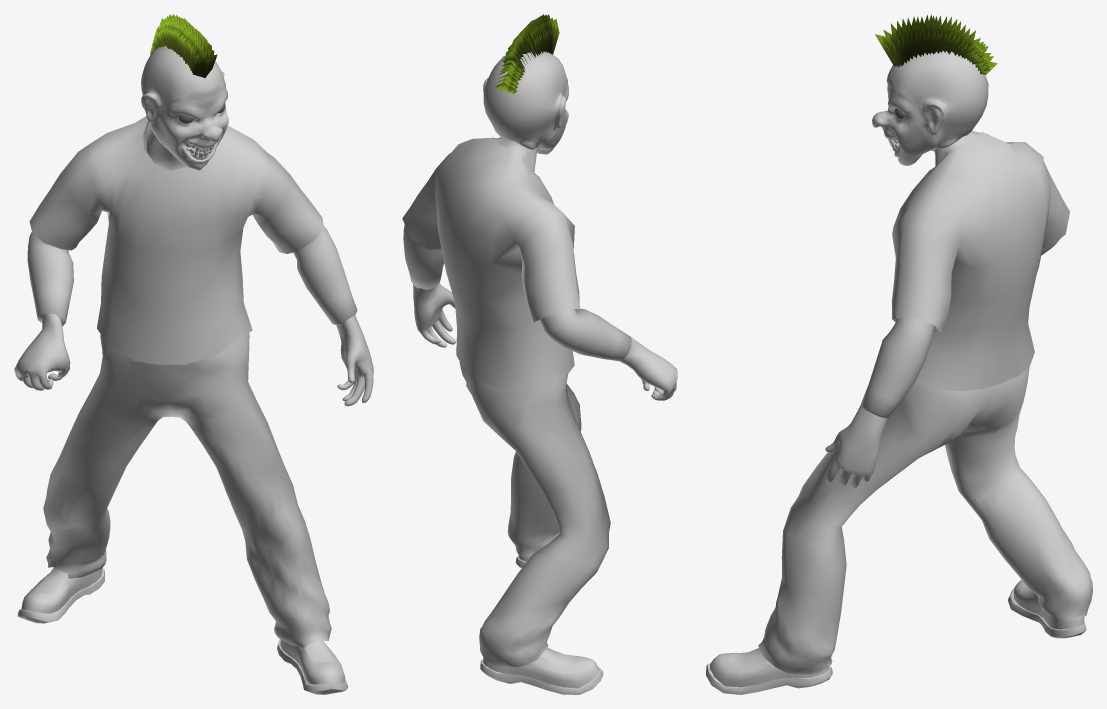
Rendered from Attack01 (55).obj.
3 views of the same model, side by side, from view 1: azimuth 30°, elevation 25°; view 2: azimuth 150°, elevation 25°; view 3: azimuth 270°, elevation 25° (orthographic). The views are drawn at different scales.
Visible parts, largest first — view 1: shirt, pants, head, forearm_band_002, forearm_band_01, boots, hand_right, boots001, Hair, hand_left, neck; view 2: shirt, pants, head, boots, forearm_band_01, Hair, hand_left, hand_right, forearm_band_002, neck; view 3: pants, shirt, head, forearm_band_002, Hair, boots001, hand_left, boots.
Part boxes in pixels (bbox=[...]): shirt: bbox=[29, 116, 324, 364]; pants: bbox=[43, 333, 331, 647]; head: bbox=[141, 46, 228, 170]; forearm_band_002: bbox=[293, 226, 357, 325]; forearm_band_01: bbox=[27, 232, 73, 326]; boots: bbox=[17, 567, 104, 623]; hand_right: bbox=[14, 313, 70, 390]; boots001: bbox=[277, 638, 347, 694]; Hair: bbox=[150, 14, 217, 77]; hand_left: bbox=[336, 315, 373, 406]; neck: bbox=[146, 122, 186, 170]; shirt: bbox=[402, 137, 579, 388]; pants: bbox=[459, 362, 610, 667]; head: bbox=[483, 51, 568, 154]; boots: bbox=[480, 647, 603, 694]; forearm_band_01: bbox=[540, 308, 631, 361]; Hair: bbox=[494, 14, 559, 93]; hand_left: bbox=[413, 283, 455, 347]; hand_right: bbox=[619, 337, 677, 400]; forearm_band_002: bbox=[403, 224, 444, 289]; neck: bbox=[493, 137, 538, 173]; pants: bbox=[758, 367, 1092, 674]; shirt: bbox=[891, 131, 1069, 391]; head: bbox=[872, 51, 988, 165]; forearm_band_002: bbox=[860, 318, 934, 418]; Hair: bbox=[875, 14, 997, 74]; boots001: bbox=[706, 648, 832, 694]; hand_left: bbox=[825, 406, 887, 487]; boots: bbox=[1008, 580, 1086, 638].
Bounding box in the file's own units: 93.93 × 182 × 98.38.
